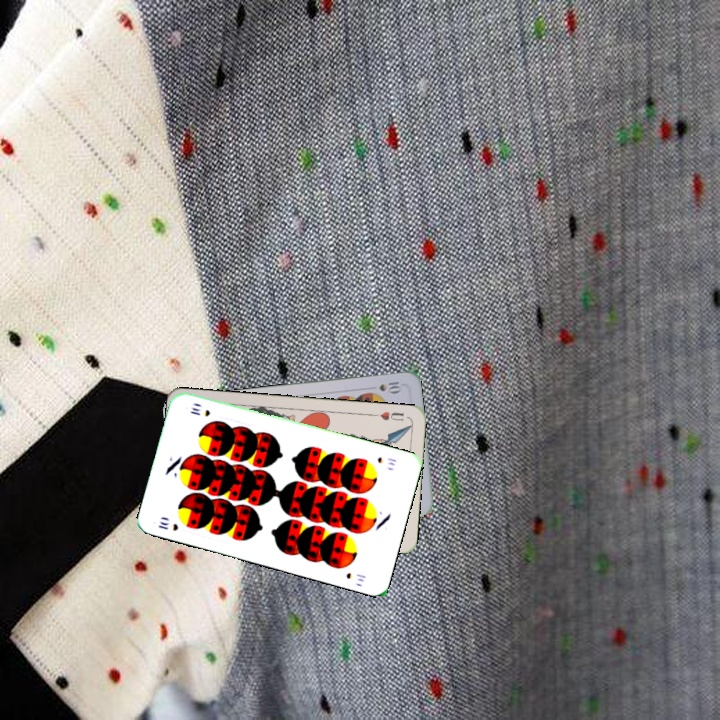HU: (369, 408, 406, 423)
S10: (375, 377, 404, 395), (154, 517, 181, 534), (373, 452, 399, 468)
